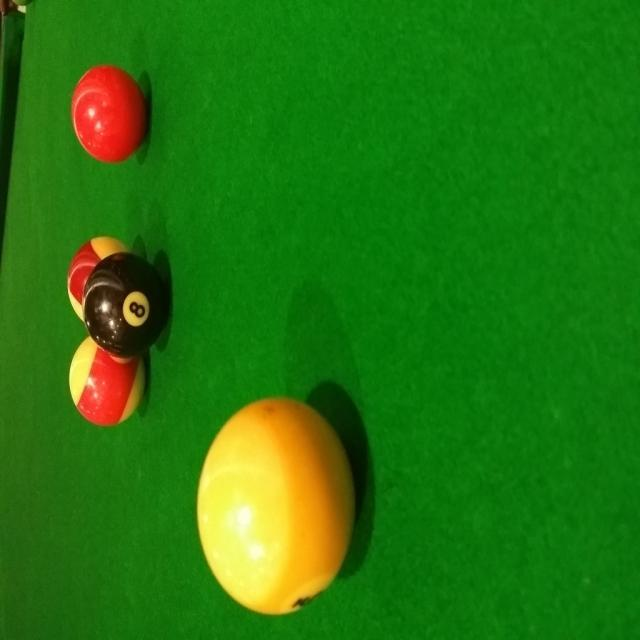Ball: (197, 396, 359, 619), (83, 253, 167, 360), (70, 66, 149, 165), (70, 335, 146, 427), (68, 236, 132, 324)
Billiard table: (0, 0, 640, 640)
